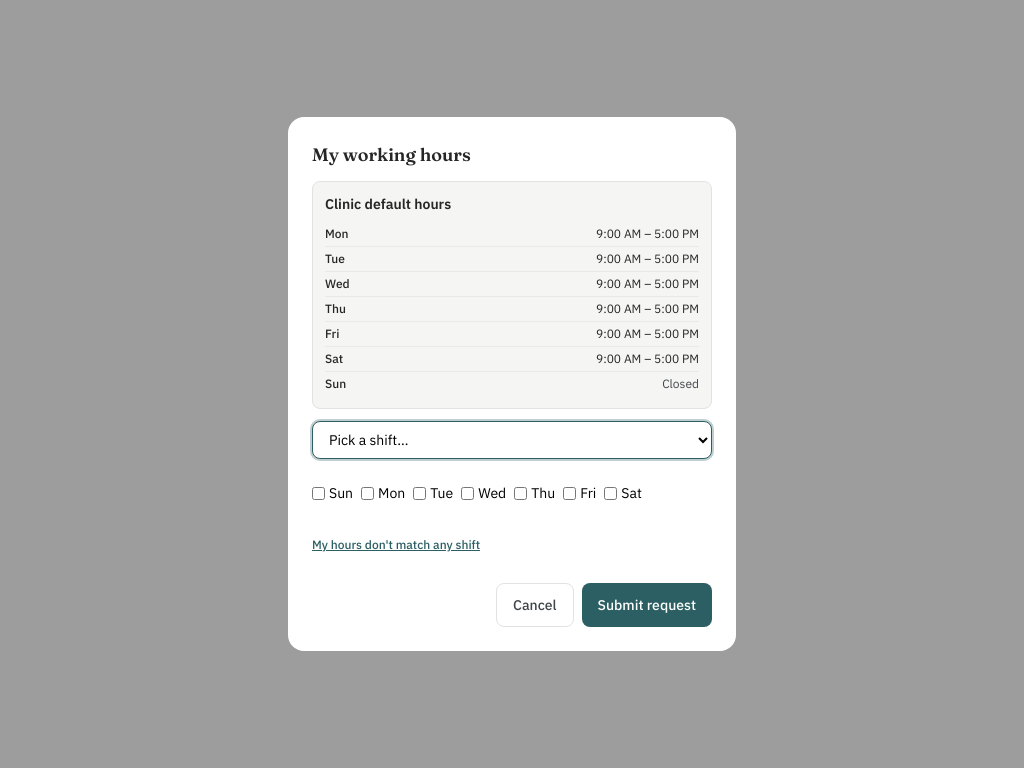
Test case: ShiftRequestSheet › submits a shift request with the picked template and weekdays
Select "Morning" in the dropdown: (512, 440) [312,421,712,459]
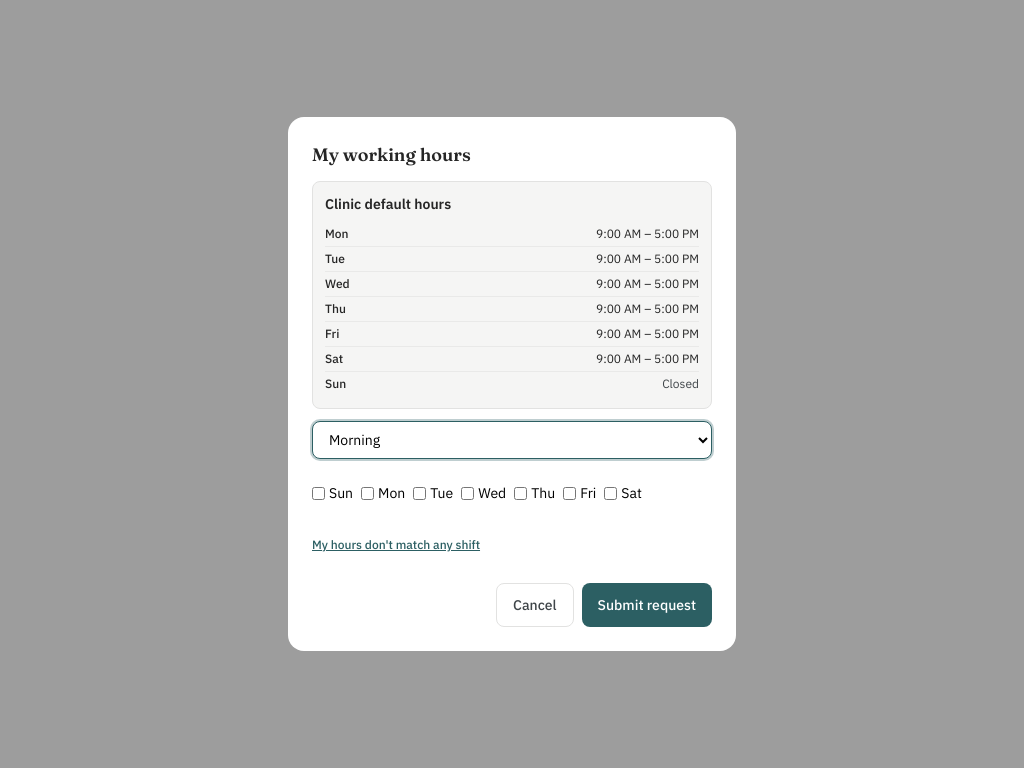
Click the checkbox labelled "Mon": (368, 493) [361,486,374,500]
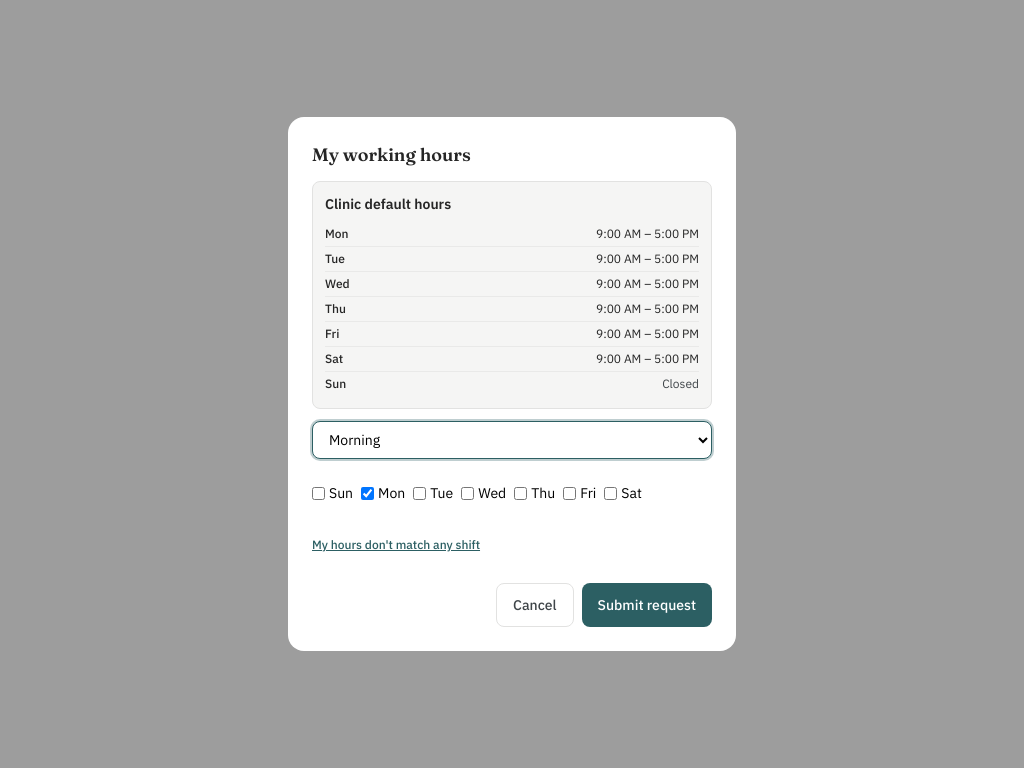
Click the button "Submit request": (647, 605) [582,583,712,627]
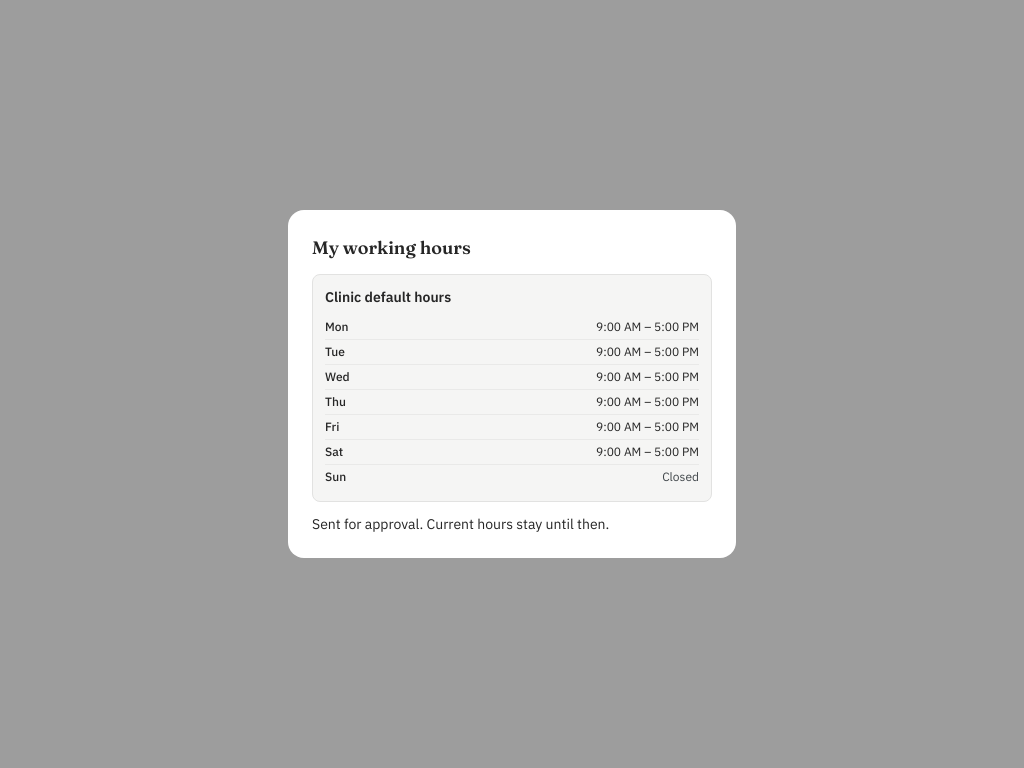
Expected: the text "Sent for approval. Current hours stay until then." is shown, [312,515,609,533]
